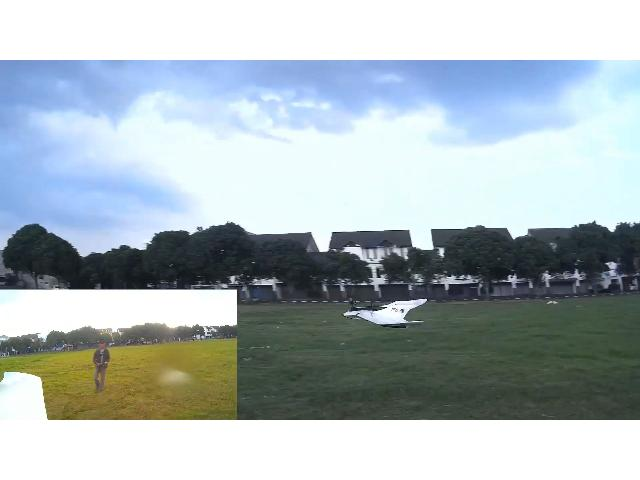Anti-Drone: (318, 274, 450, 340)
